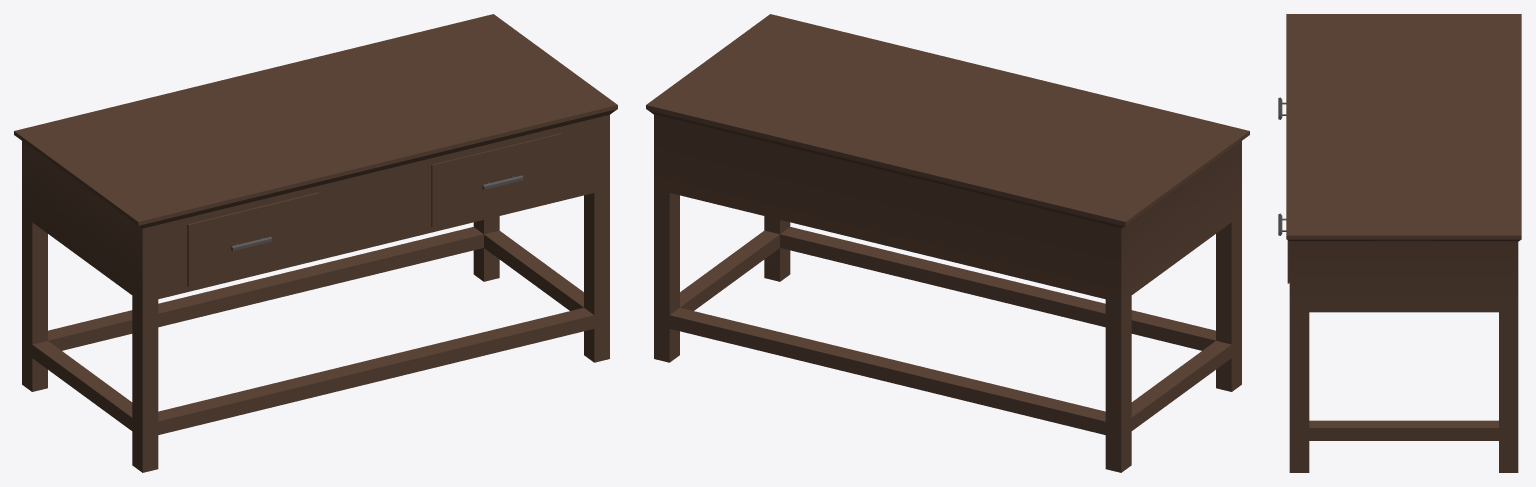
File: Table.fbx
The picture shows the model from 3 angles, left to right: view 1: azimuth 30°, elevation 25°; view 2: azimuth 150°, elevation 25°; view 3: azimuth 270°, elevation 25°; orthographic projection. The views are drawn at different scales.
Visible parts, largest first — view 1: Table; view 2: Table; view 3: Table.
Part boxes in pixels (left/top/right/bottom): Table: left=14, top=14, right=617, bottom=472; Table: left=646, top=14, right=1249, bottom=472; Table: left=1278, top=14, right=1521, bottom=472.
Bounding box in the file's own units: 205 × 104 × 95.38.
